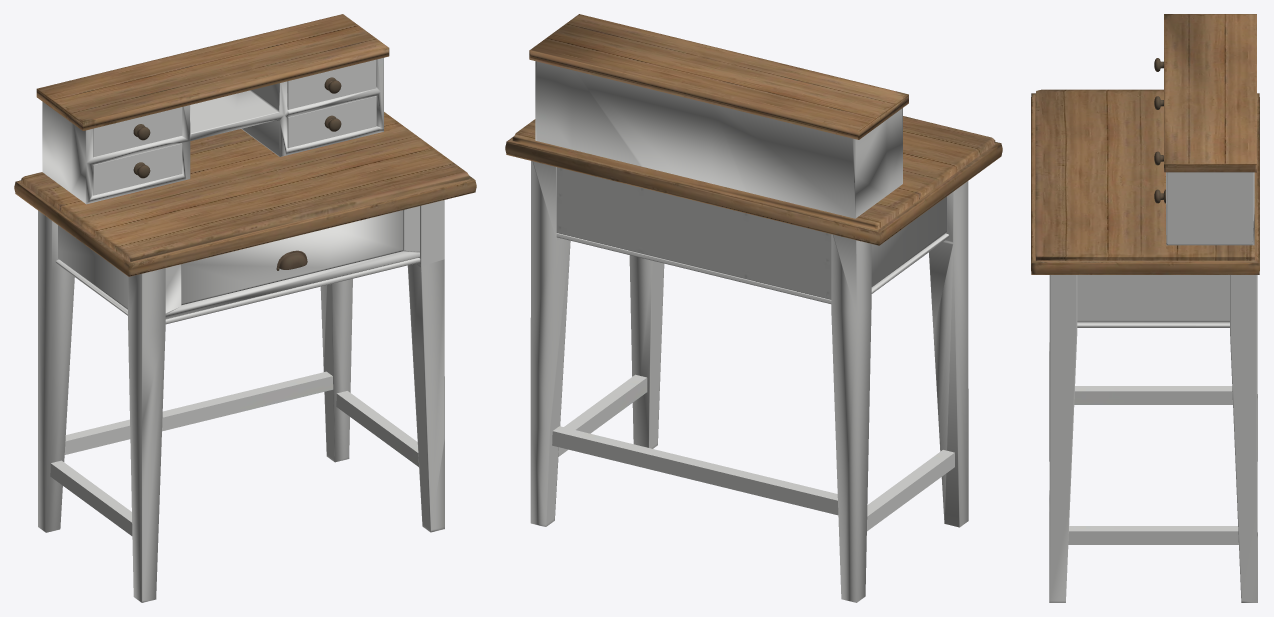
Rendered from B075Z93NKX.glb.
The picture shows the model from 3 angles, left to right: view 1: azimuth 30°, elevation 25°; view 2: azimuth 150°, elevation 25°; view 3: azimuth 270°, elevation 25°; orthographic projection. The views are drawn at different scales.
Parts seen in each view (by area): view 1: RootNode; view 2: RootNode; view 3: RootNode.
Boxes of the visible parts, x1,y1,x2,y2 form: RootNode: (14,14,476,602); RootNode: (505,14,1002,602); RootNode: (1031,14,1259,602).
Bounding box in the file's own units: 0.8139 × 0.9808 × 0.4623.
Materials: 1 (1 with a texture image).
